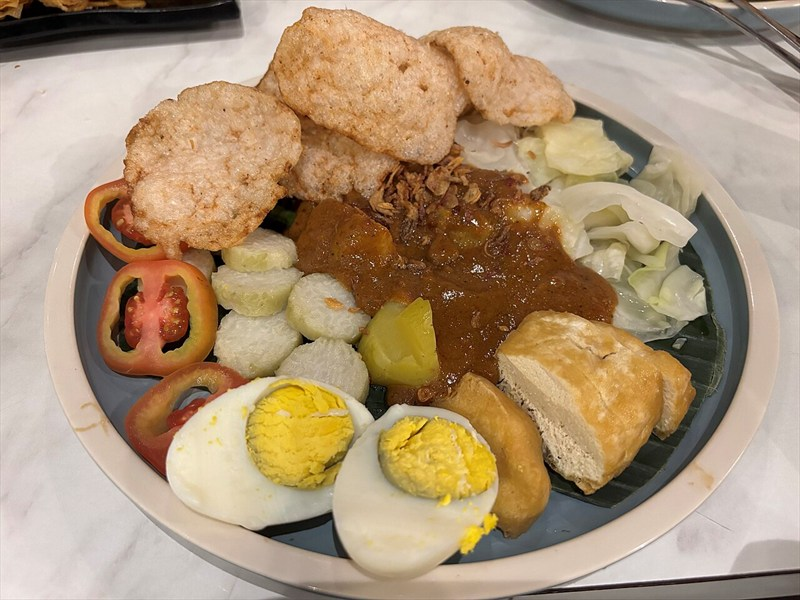Gado-Gado: (82, 89, 708, 511)
